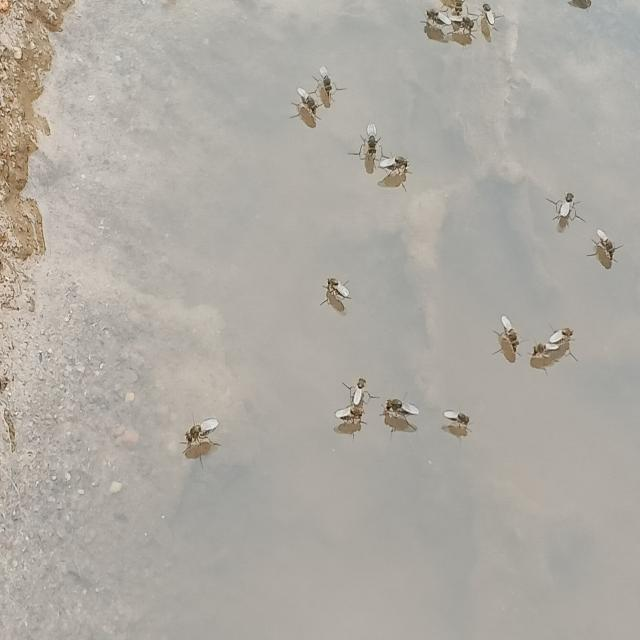Mosquito: (283, 77, 329, 129), (370, 138, 412, 194), (486, 315, 528, 370), (177, 413, 224, 461), (309, 64, 354, 114), (448, 1, 491, 52), (316, 260, 356, 314), (535, 326, 584, 366), (336, 375, 370, 431), (384, 392, 420, 442), (554, 188, 594, 233), (442, 400, 480, 445), (349, 119, 384, 164), (592, 231, 625, 276), (422, 1, 451, 46)
